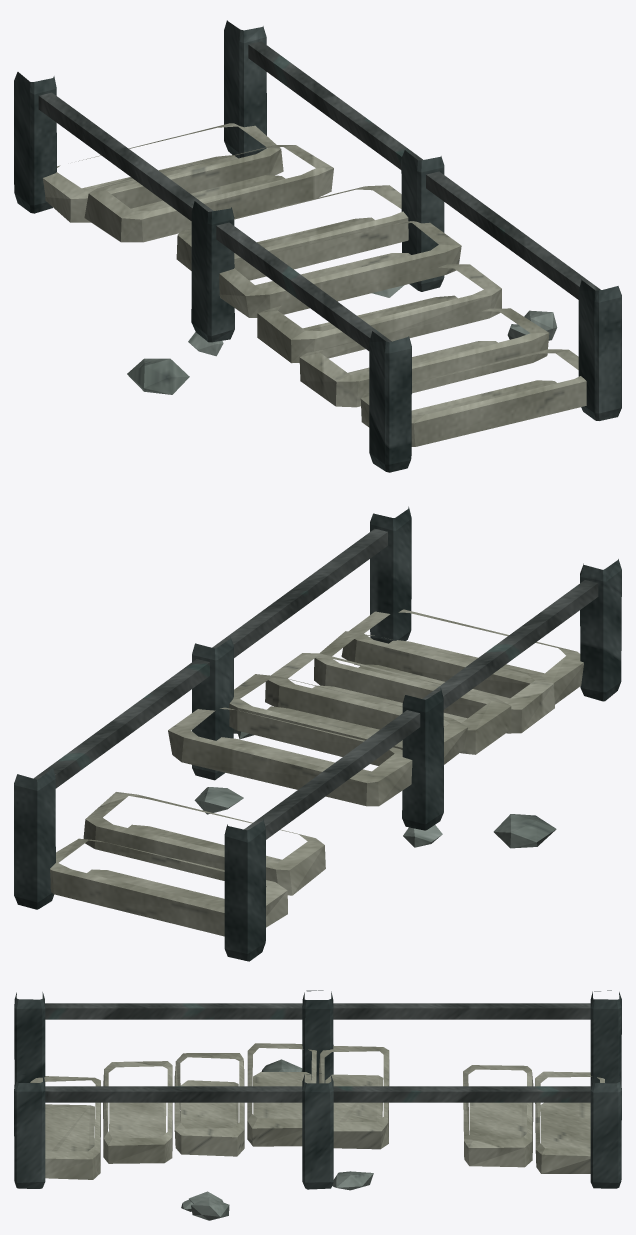
File: 0391_ruined_bridge_16.glb
3 views of the same model, one above another, from view 1: azimuth 30°, elevation 25°; view 2: azimuth 150°, elevation 25°; view 3: azimuth 270°, elevation 25° (orthographic). The views are drawn at different scales.
Parts seen in each view (by area): view 1: stone_light, stone_dark, iron, stone; view 2: stone_light, stone_dark, iron, stone; view 3: stone_light, stone_dark, iron, stone.
Part boxes in pixels (<box>): stone_light: <box>42,123,586,446</box>; stone_dark: <box>14,20,621,472</box>; iron: <box>38,41,601,350</box>; stone: <box>127,285,557,394</box>; stone_light: <box>50,609,583,936</box>; stone_dark: <box>14,506,621,961</box>; iron: <box>33,528,598,839</box>; stone: <box>194,729,556,848</box>; stone_light: <box>30,1043,604,1179</box>; stone_dark: <box>14,990,621,1189</box>; iron: <box>45,1003,590,1102</box>; stone: <box>181,1059,373,1220</box>.
Size of the model in its own units: 2.88 by 1.11 by 4.92.
4 materials, 4 textured.
